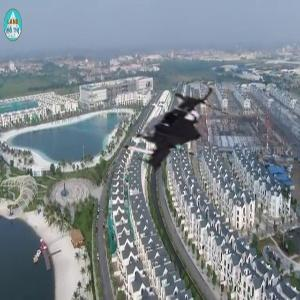drone: (111, 70, 236, 195)
